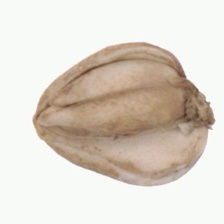L1: (180, 78, 215, 131), (28, 96, 52, 152)
L2: (30, 41, 215, 188)
